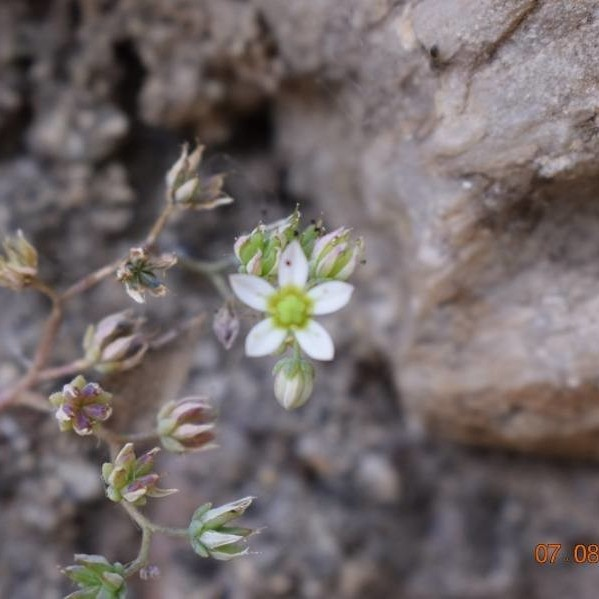obstacle: (46, 174, 355, 545)
